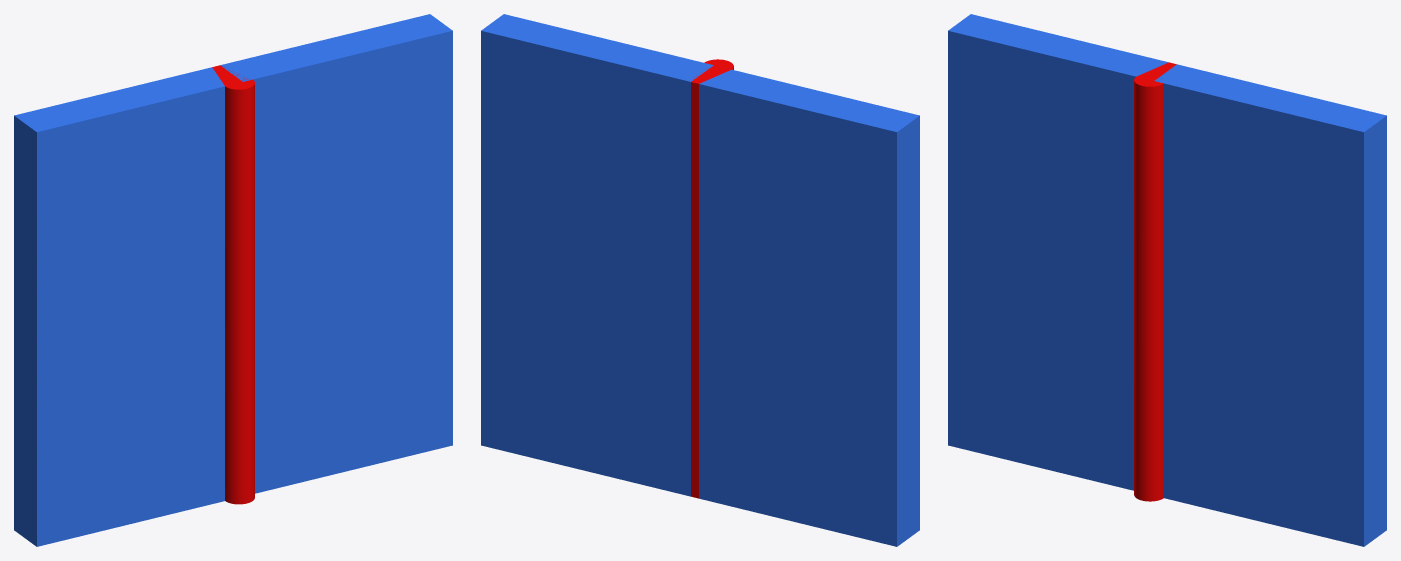
The model's file is butt joint v1.fbx.
The picture shows the model from 3 angles, left to right: view 1: azimuth 30°, elevation 25°; view 2: azimuth 150°, elevation 25°; view 3: azimuth 330°, elevation 25°; orthographic projection.
Visible parts, largest first — view 1: Body1, Body2, Body3; view 2: Body1, Body2, Body3; view 3: Body1, Body2, Body3.
Boxes of the visible parts, x1,y1,x2,y2 form: Body1: (14, 14, 452, 546); Body2: (220, 17, 440, 492); Body3: (212, 65, 254, 504); Body1: (481, 14, 919, 546); Body2: (493, 17, 713, 496); Body3: (691, 59, 733, 498); Body1: (948, 14, 1386, 546); Body2: (1154, 64, 1373, 543); Body3: (1134, 62, 1176, 501).
Bounding box in the file's own units: 267 × 254 × 34.29.
